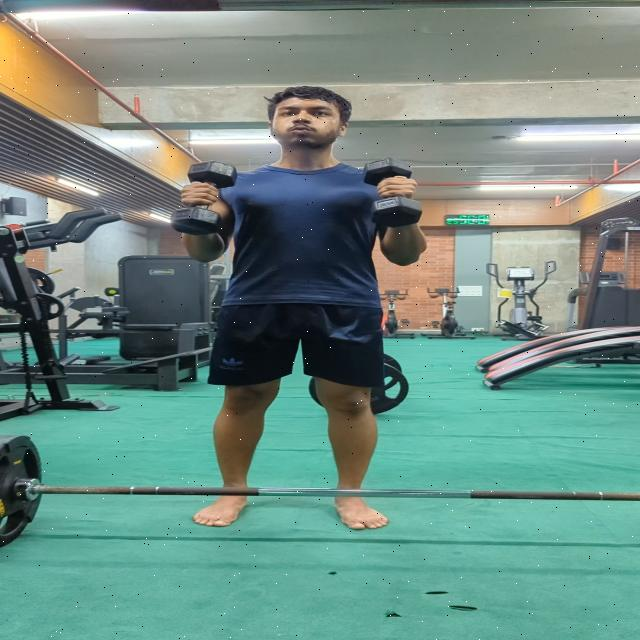Normal_DumbbellBicepCurls: (150, 78, 450, 543)
